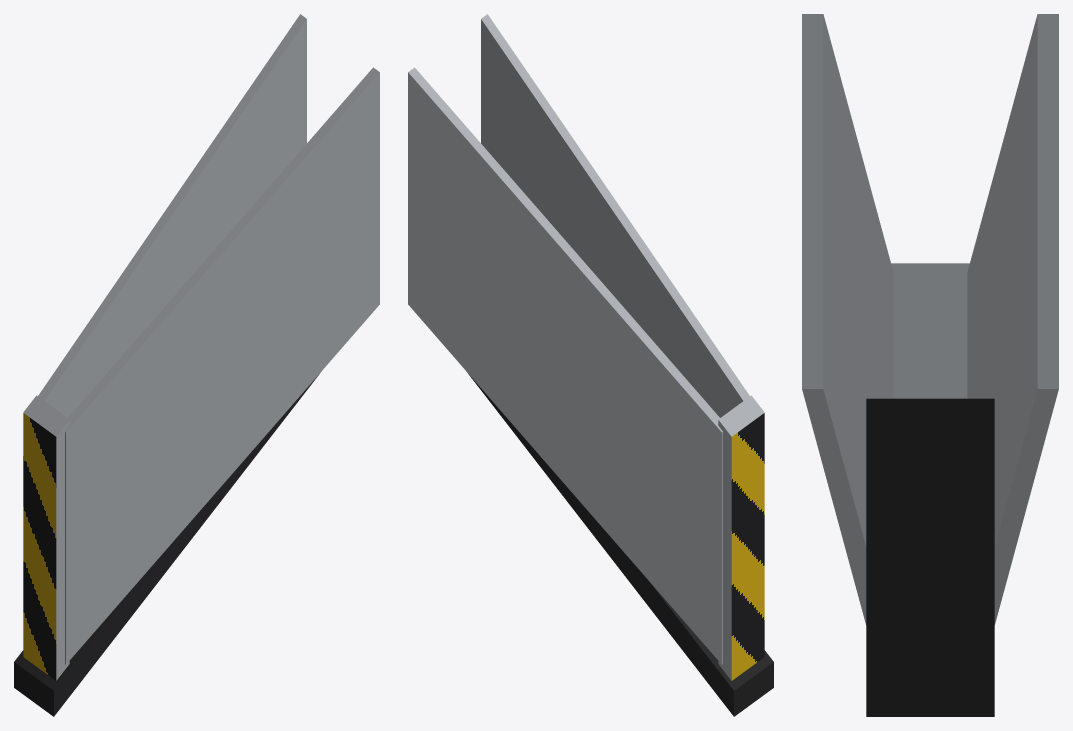
File: crash_cushion_nose_core_up.obj
3 views of the same model, side by side, from view 1: azimuth 30°, elevation 25°; view 2: azimuth 150°, elevation 25°; view 3: azimuth 270°, elevation 25° (orthographic). The views are drawn at different scales.
Visible parts, largest first — view 1: crash_cushion_nose_core_up; view 2: crash_cushion_nose_core_up; view 3: crash_cushion_nose_core_up.
Part boxes in pixels (box(x1,y1,x2,y2)): crash_cushion_nose_core_up: box(14, 14, 379, 716); crash_cushion_nose_core_up: box(408, 14, 773, 716); crash_cushion_nose_core_up: box(802, 14, 1058, 716).
Size of the model in its own units: 1 by 1.83 by 0.45.
